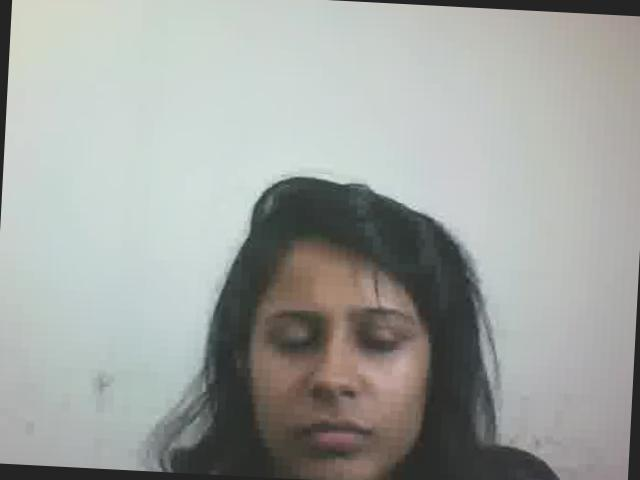bosan: (233, 244, 430, 480)
